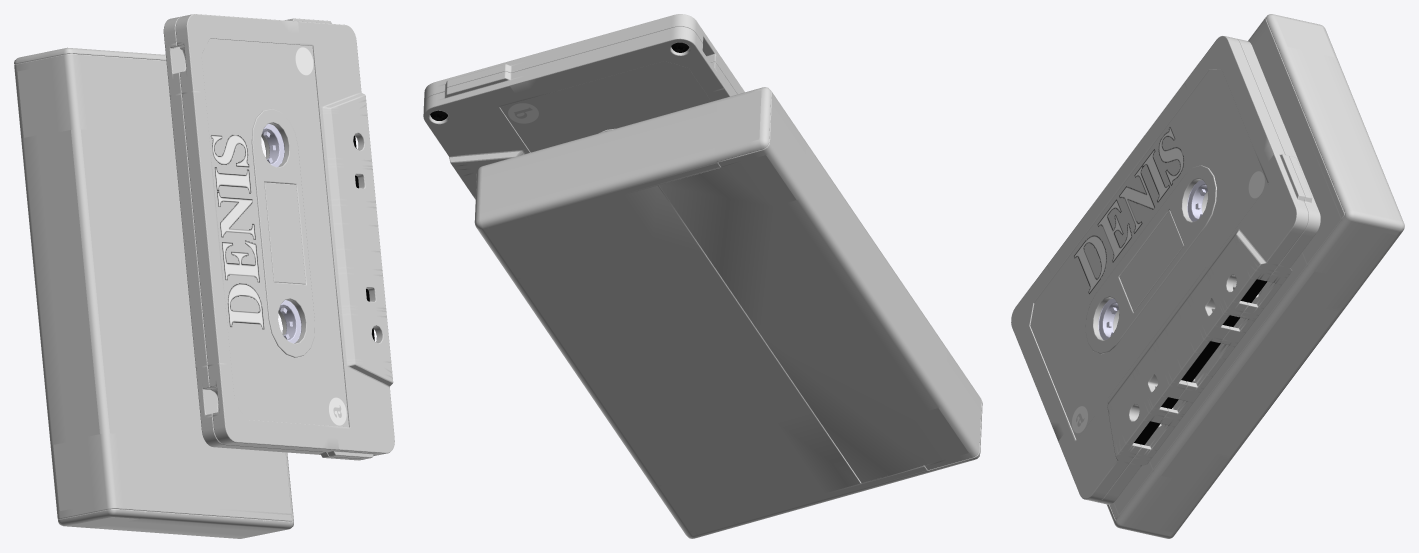
Rendered from tape_objconverted.glb.
3 renders of one model, left to right at view 1: azimuth 30°, elevation 25°; view 2: azimuth 150°, elevation 25°; view 3: azimuth 270°, elevation 25°, orthographic. The views are drawn at different scales.
Visible parts, largest first — view 1: Top; view 2: Top; view 3: Top.
Part boxes in pixels (left/top/right/bottom): Top: left=14, top=14, right=394, bottom=538; Top: left=423, top=14, right=982, bottom=538; Top: left=1011, top=14, right=1404, bottom=538.
Bounding box in the file's own units: 6.53 × 7.85 × 5.69.
Materials: 12 (7 with a texture image).
